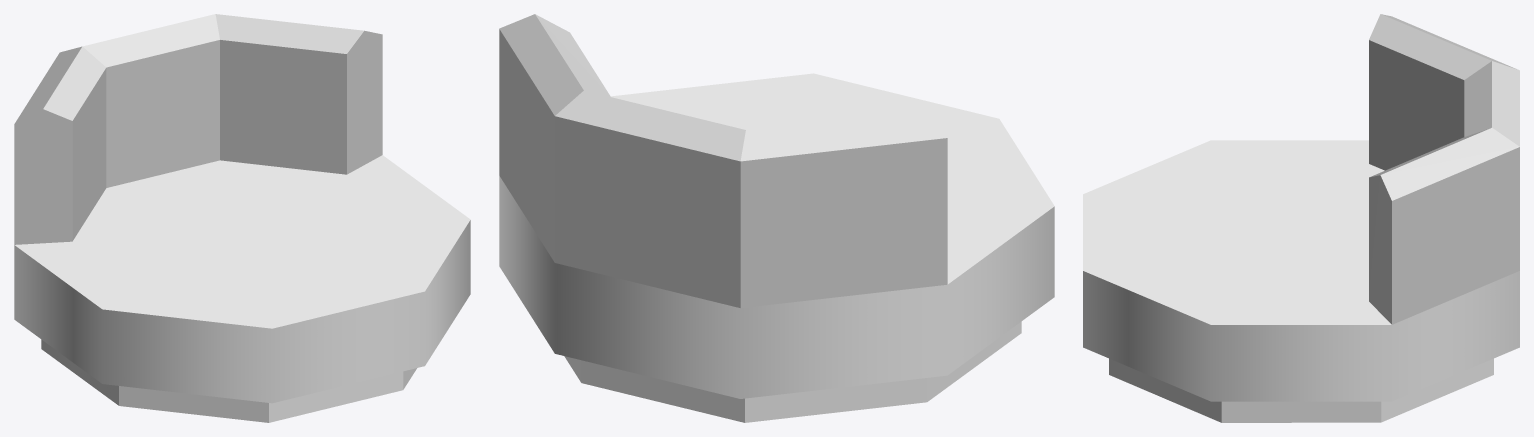
Rendered from Itr_Barchair_Seat_06.FBX.
3 renders of one model, left to right at view 1: azimuth 30°, elevation 25°; view 2: azimuth 150°, elevation 25°; view 3: azimuth 270°, elevation 25°, orthographic. The views are drawn at different scales.
Parts seen in each view (by area): view 1: Itr_Barchair_Seat_06; view 2: Itr_Barchair_Seat_06; view 3: Itr_Barchair_Seat_06.
Boxes of the visible parts, box(x1,y1,x2,y2) form: Itr_Barchair_Seat_06: box(14, 14, 470, 422); Itr_Barchair_Seat_06: box(499, 14, 1054, 422); Itr_Barchair_Seat_06: box(1083, 14, 1519, 422).
Size of the model in its own units: 16.37 by 10.21 by 16.37.
